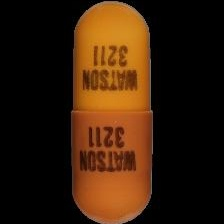63739-579: (0, 0, 224, 224)
